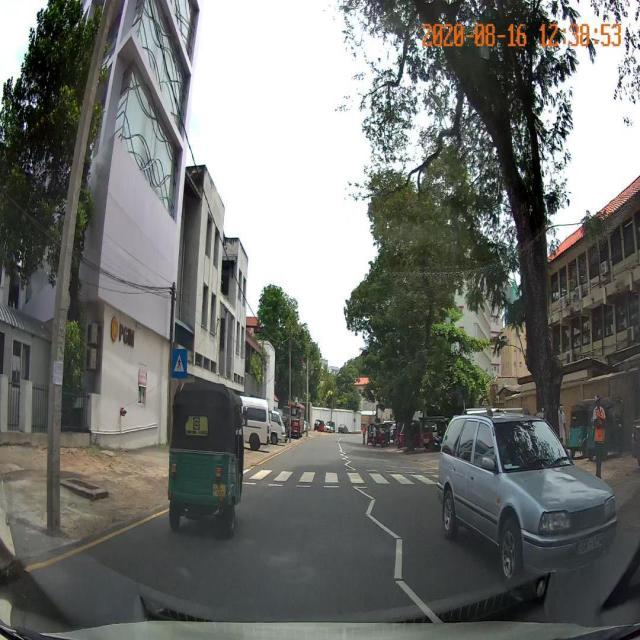Crosswalk: (242, 466, 438, 489)
